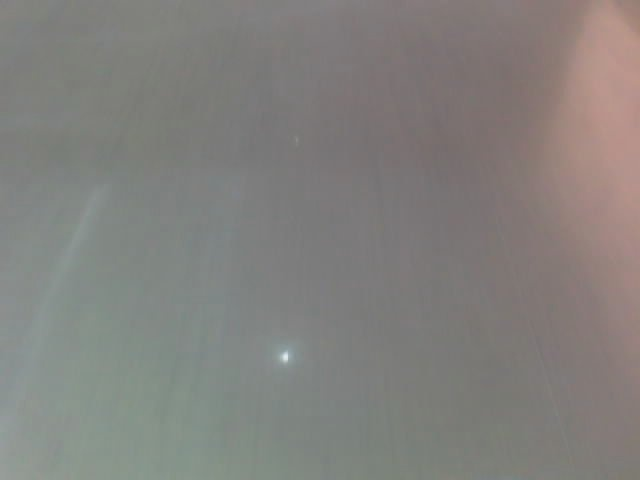袜子: (359, 79, 391, 160)
